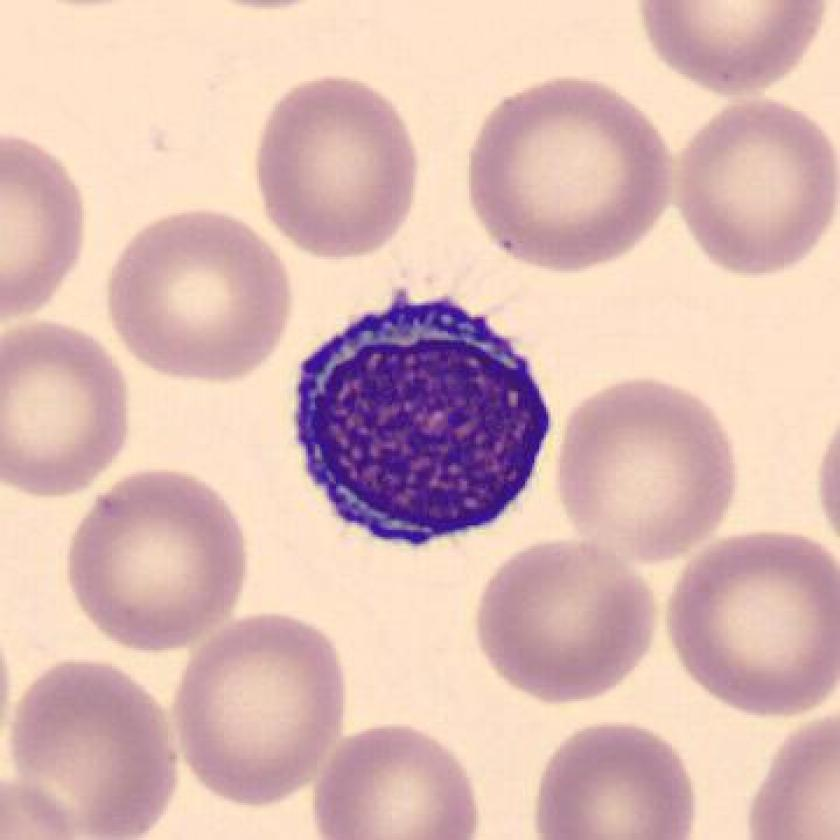lymphocyte: (279, 279, 566, 566)
